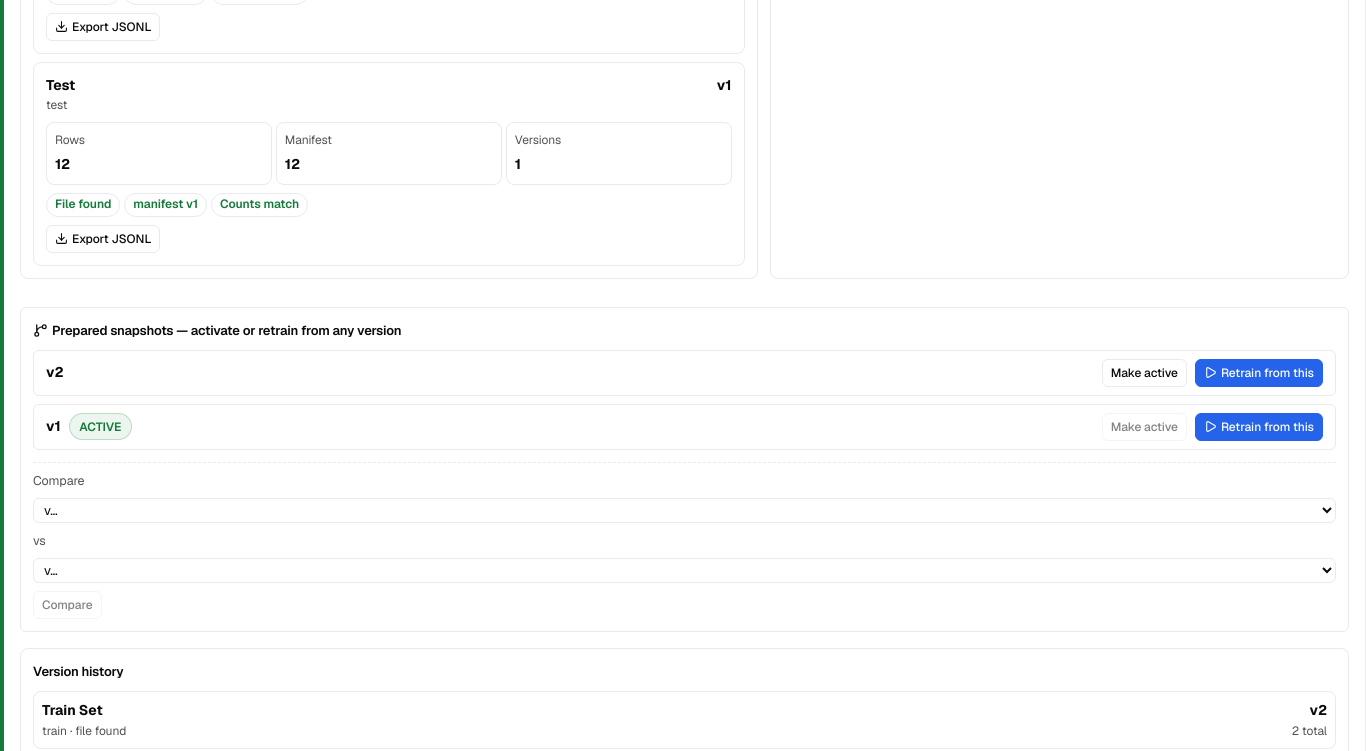
Scenario: DataStudioDatasetVersionsPanel › activates a prepared snapshot and refreshes
The width and height of the screenshot is (1366, 751).
(page scrolled)
Expected: the element with test id "prepared-version-snapshots" is shown, [20,306,1349,632]
Expected: the text "Active" is shown, [69,413,132,440]
Click the 1st button "Make active" at (1144, 372), box [1102,358,1187,386]
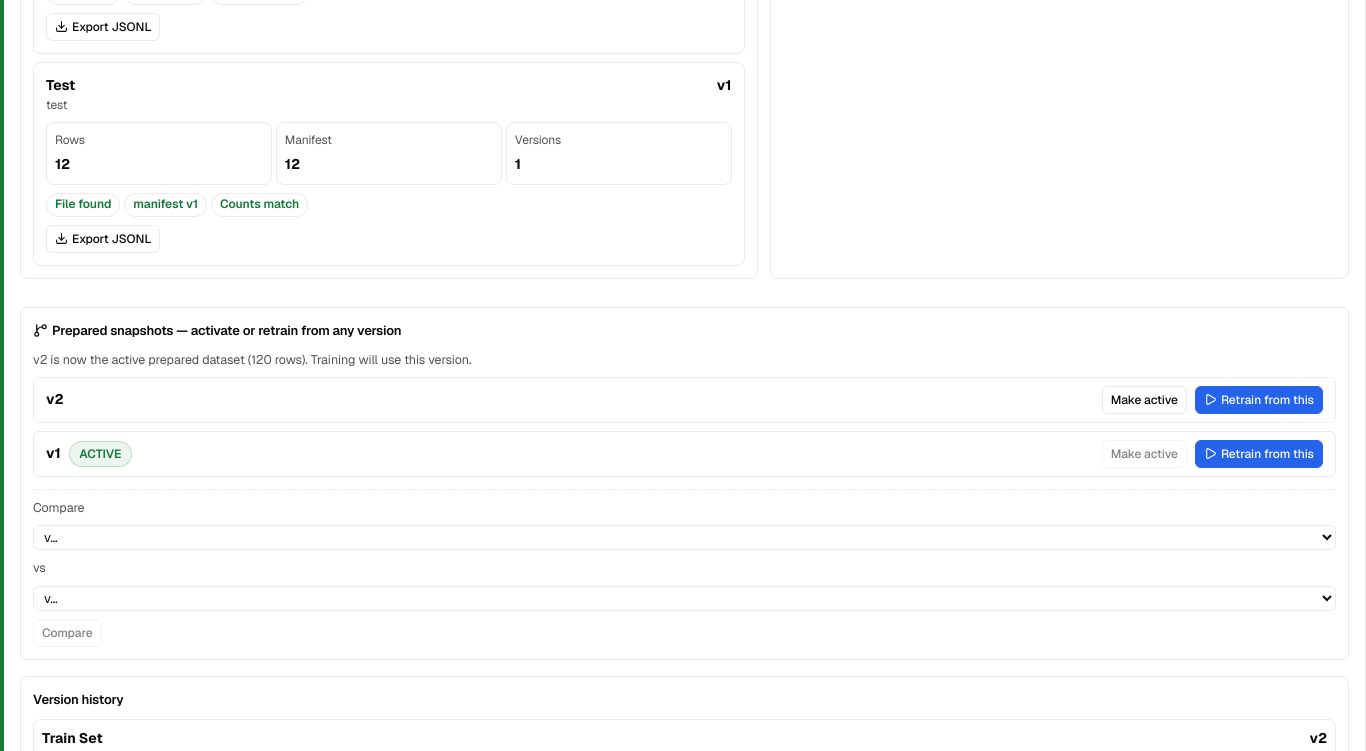
Expected: the message with test id "activate-flash" shows "v2 is now the active", [33,350,471,368]
